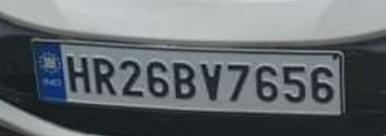2: (117, 55, 146, 102)
5: (280, 60, 311, 105)
6: (307, 63, 338, 108), (254, 59, 280, 106), (145, 56, 170, 100)
7: (227, 54, 252, 107)
B: (171, 55, 196, 105)
H: (64, 51, 92, 99)
R: (90, 52, 118, 98)
V: (197, 57, 225, 107)
